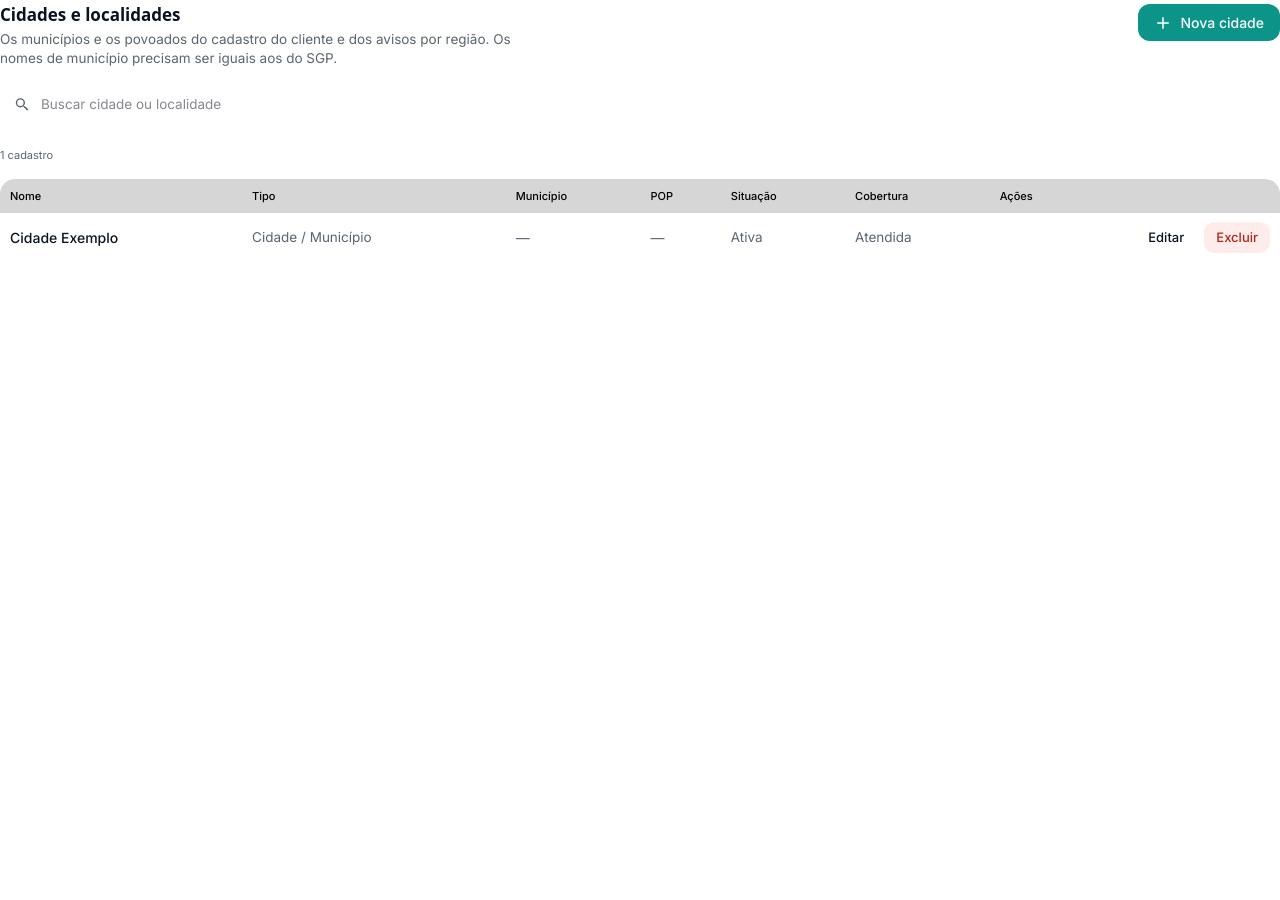
Scenario: Nova cidade e Editar cadastro › editar: "Salvar alterações", mesmo método e a recusa estrutural em português
Click the button with aria-label "Editar Cidade Exemplo". click: (1166, 237)
box: [1136, 222, 1196, 253]
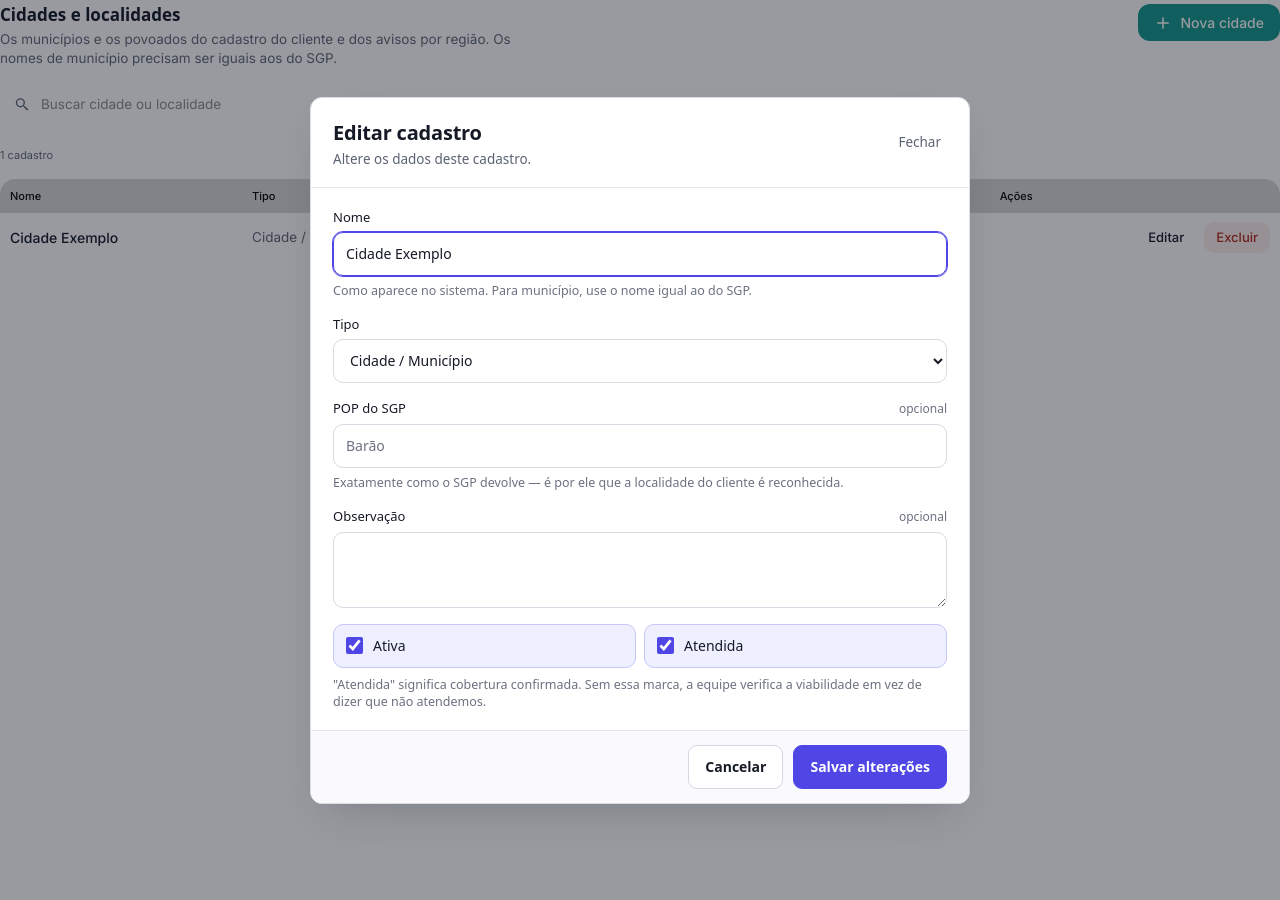
Click the button "Salvar alterações". click: (870, 766)
box: [793, 744, 947, 788]
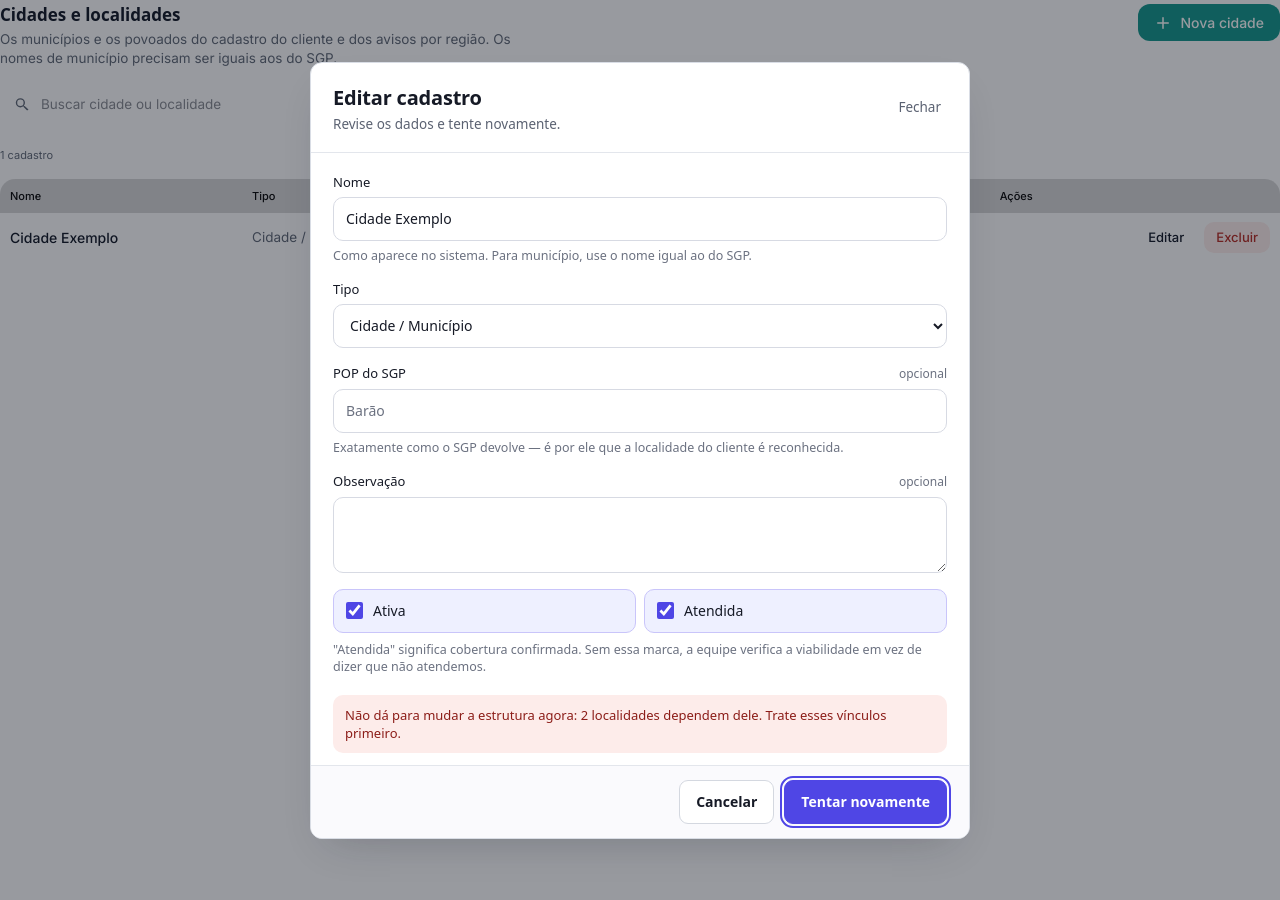
Expected: the message shows "2 localidades dependem dele", [345, 706, 886, 742]
Click the button "Tentar novamente". click: (866, 802)
box: [784, 780, 947, 824]
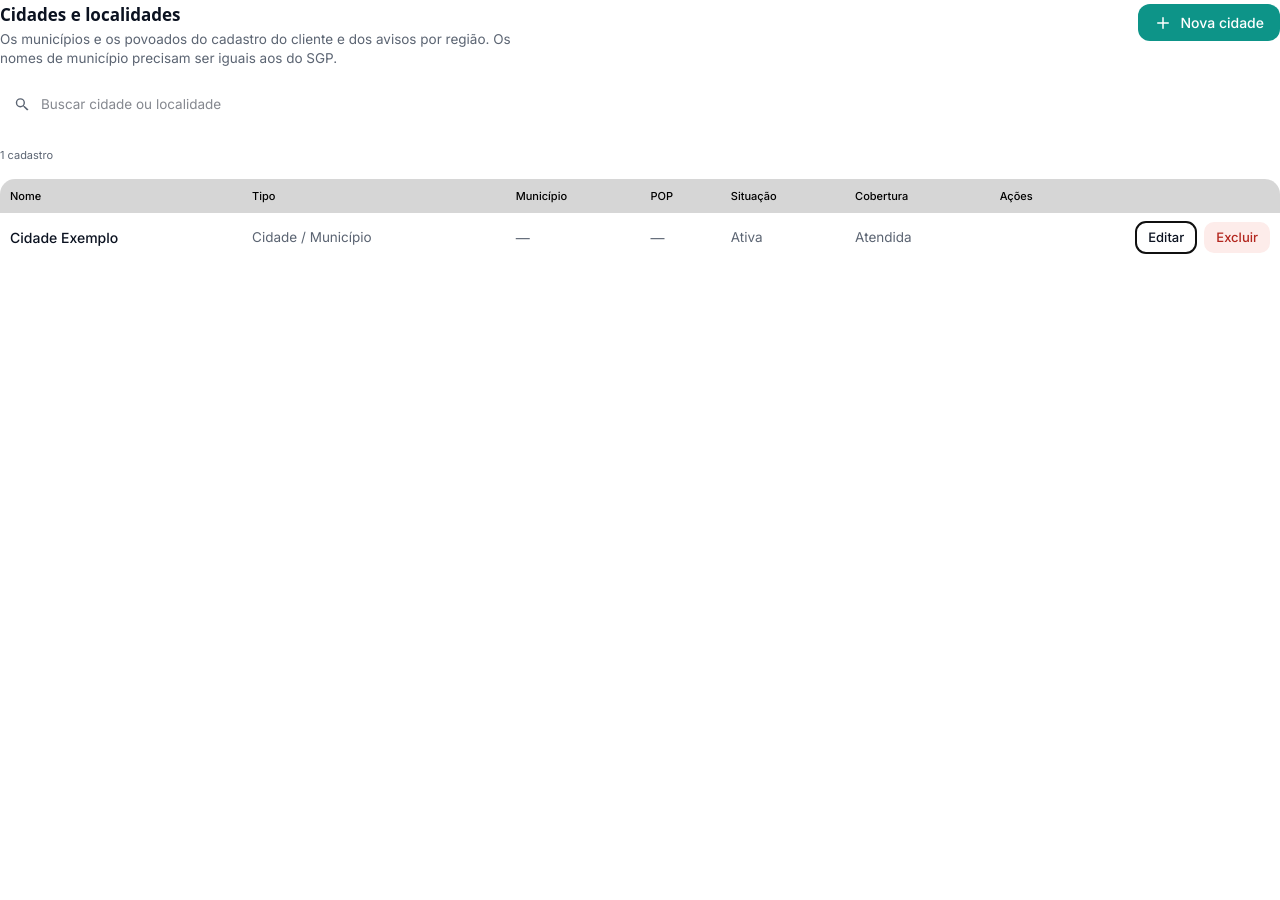
Expected: the dialog is gone
